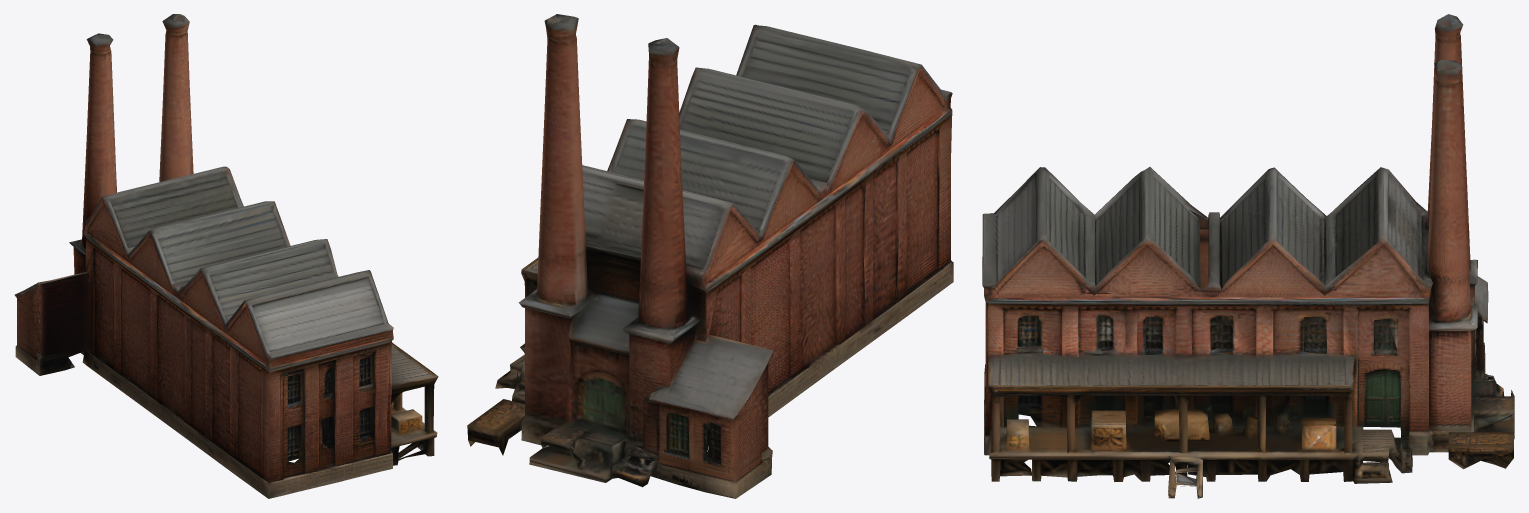
The model's file is factory.glb.
3 views of the same model, side by side, from view 1: azimuth 30°, elevation 25°; view 2: azimuth 150°, elevation 25°; view 3: azimuth 270°, elevation 25° (orthographic). The views are drawn at different scales.
Visible parts, largest first — view 1: tripo_node_47e8d1c9-2def-4784-9032-106d2162953c; view 2: tripo_node_47e8d1c9-2def-4784-9032-106d2162953c; view 3: tripo_node_47e8d1c9-2def-4784-9032-106d2162953c.
Boxes of the visible parts, x1,y1,x2,y2 form: tripo_node_47e8d1c9-2def-4784-9032-106d2162953c: (14,14,438,498); tripo_node_47e8d1c9-2def-4784-9032-106d2162953c: (467,14,953,498); tripo_node_47e8d1c9-2def-4784-9032-106d2162953c: (982,14,1514,498).
Bounding box in the file's own units: 0.6432 × 0.7933 × 1.
Materials: 1 (1 with a texture image).
